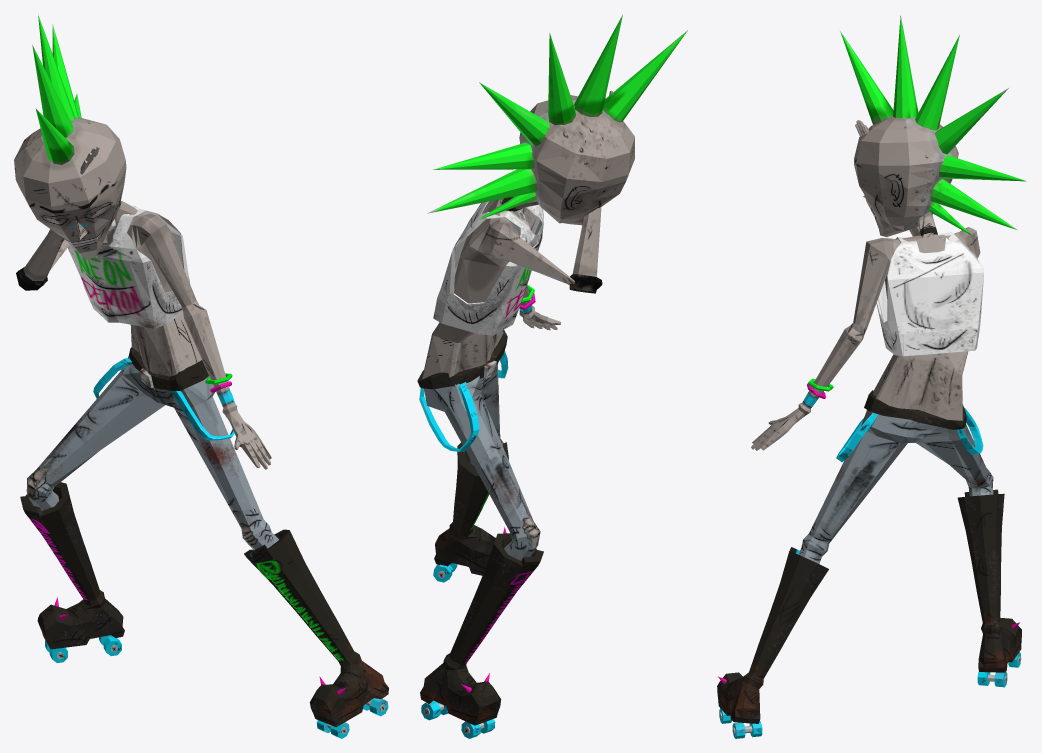
Rendered from punkAnimation_000071.obj.
3 views of the same model, side by side, from view 1: azimuth 30°, elevation 25°; view 2: azimuth 150°, elevation 25°; view 3: azimuth 270°, elevation 25° (orthographic). The views are drawn at different scales.
Visible parts, largest first — view 1: Cube.004_Cube.003; view 2: Cube.004_Cube.003; view 3: Cube.004_Cube.003.
Part boxes in pixels (x1,y1,x2,y2): Cube.004_Cube.003: (14, 14, 388, 738); Cube.004_Cube.003: (417, 14, 687, 738); Cube.004_Cube.003: (717, 15, 1026, 738).
Size of the model in its own units: 3.09 by 6.72 by 3.08.
